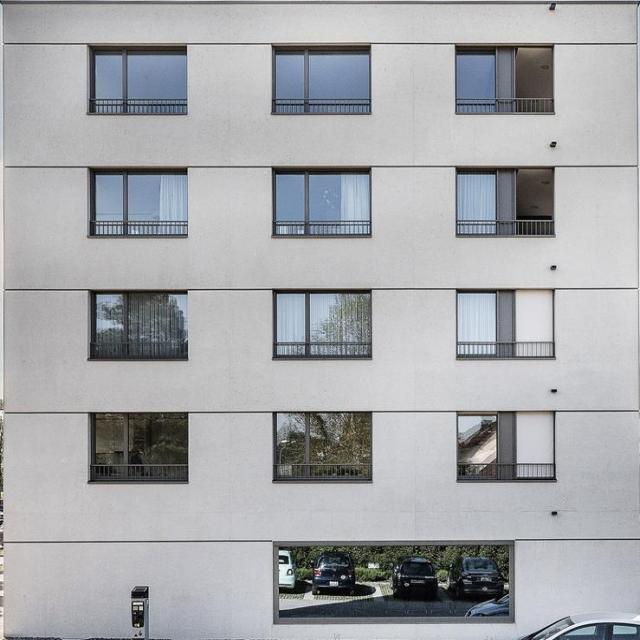railing: (90, 339, 185, 357), (457, 342, 552, 359), (455, 462, 553, 478), (275, 464, 369, 480), (452, 221, 552, 236), (93, 220, 185, 236), (88, 98, 185, 113), (454, 98, 550, 112), (90, 466, 186, 480), (272, 99, 367, 113), (270, 344, 369, 357), (270, 223, 370, 235)
window: (273, 546, 511, 623), (89, 411, 184, 466), (272, 293, 369, 343), (272, 173, 368, 223), (274, 413, 369, 463), (90, 293, 185, 341), (274, 52, 368, 98), (92, 52, 184, 99), (94, 175, 184, 220), (454, 171, 493, 220), (455, 415, 493, 463), (456, 294, 494, 339), (456, 53, 493, 97)
